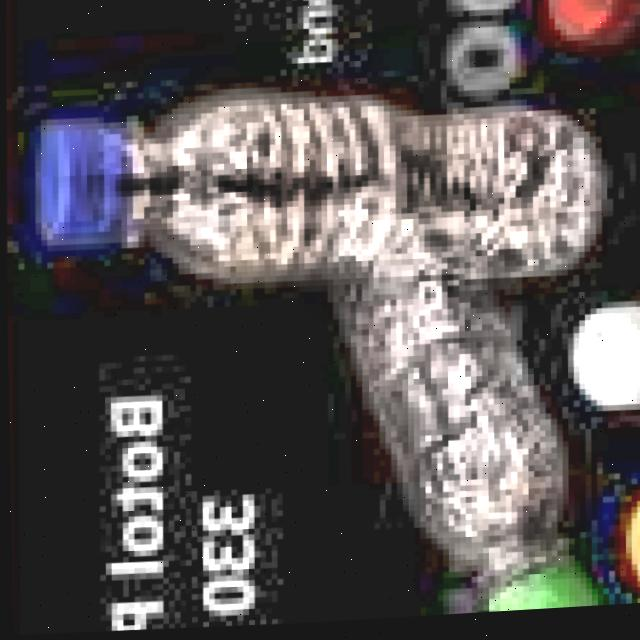plastic: (0, 0, 618, 376), (215, 147, 619, 630)
